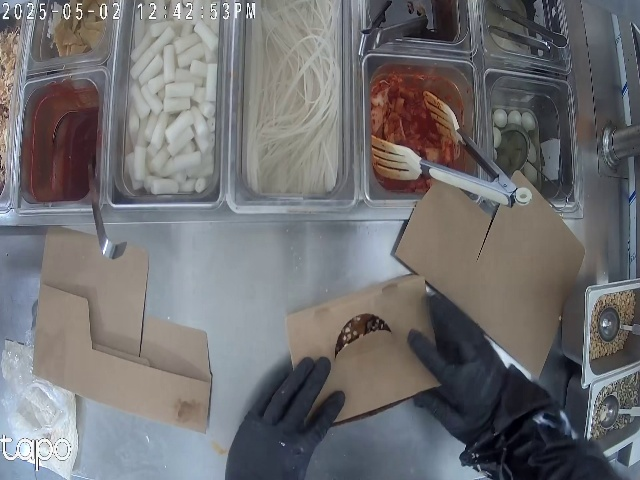closed delivery box: (282, 297, 439, 402)
hand: (222, 362, 347, 470), (414, 287, 513, 421)
